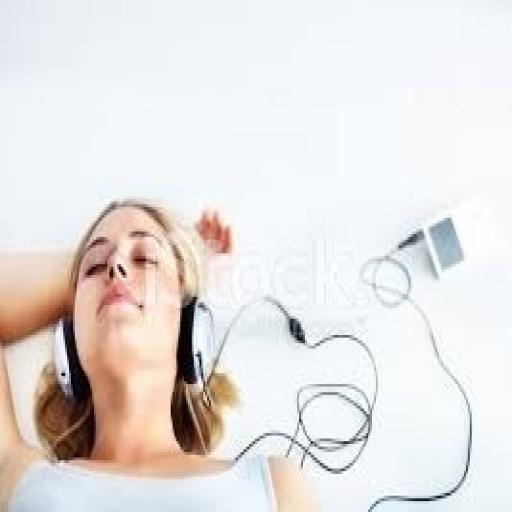sleeping: (0, 194, 278, 510)
